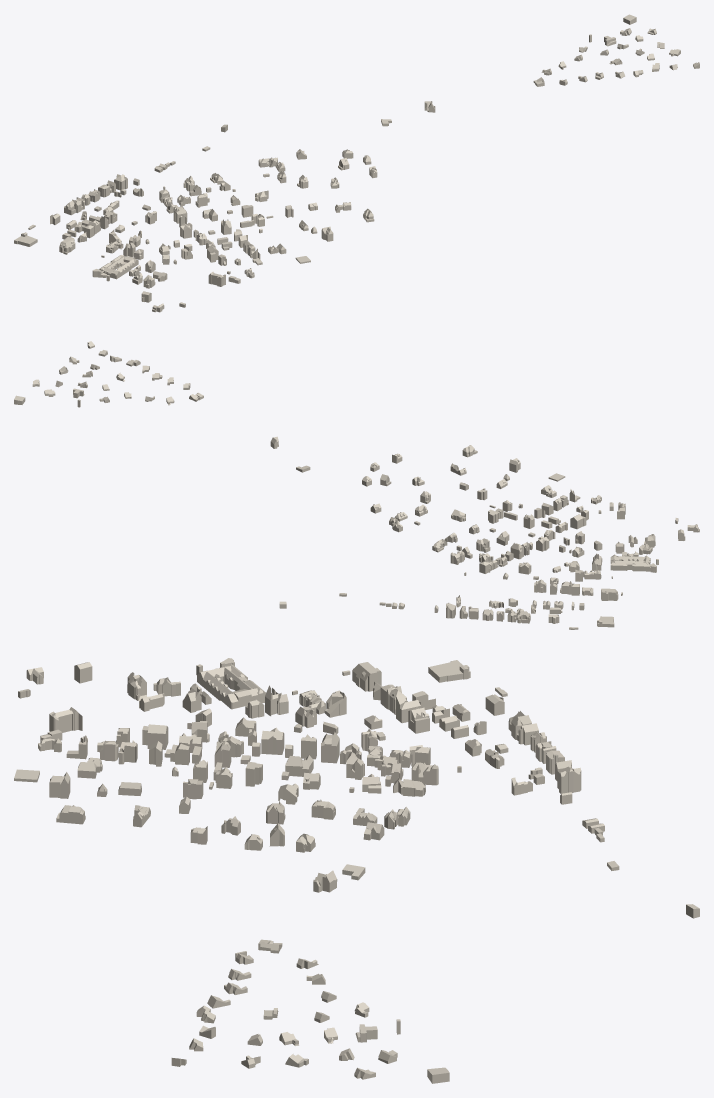
3 views of the same model, one above another, from view 1: azimuth 30°, elevation 25°; view 2: azimuth 150°, elevation 25°; view 3: azimuth 270°, elevation 25° (orthographic). The views are drawn at different scales.
Bounding box in the file's own units: 895 × 122 × 462.
